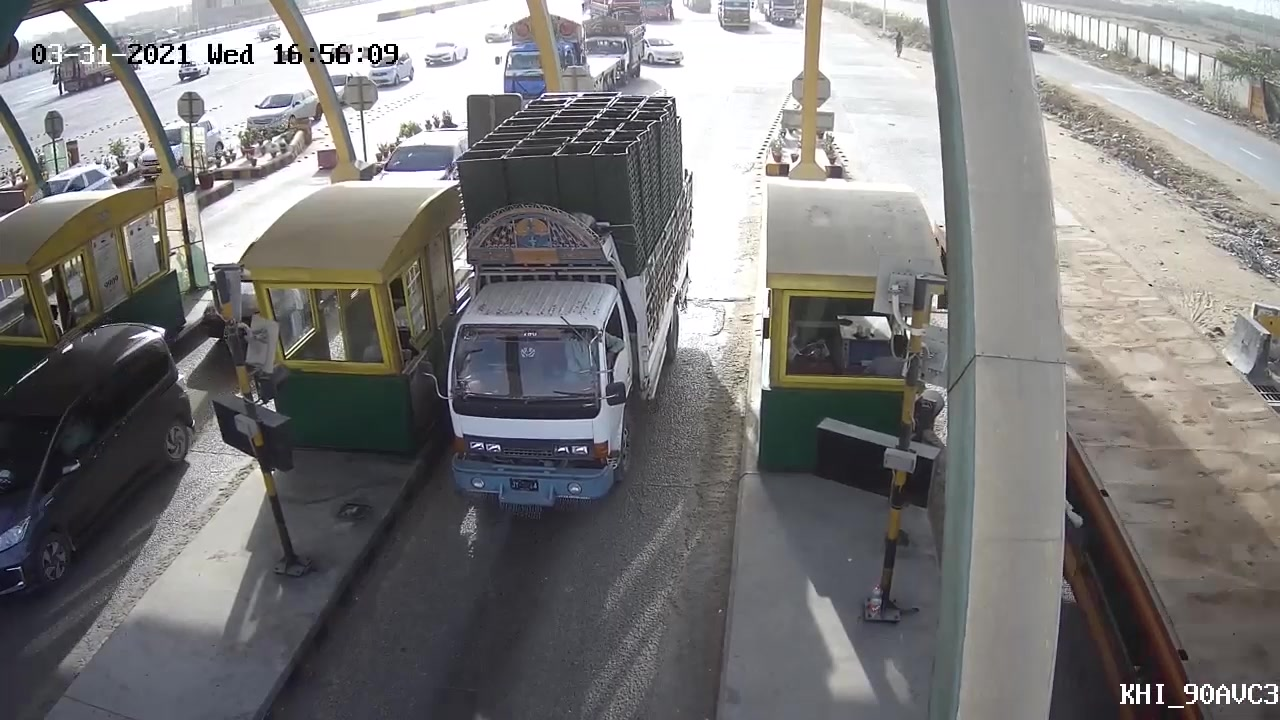F5: (417, 87, 712, 524)
